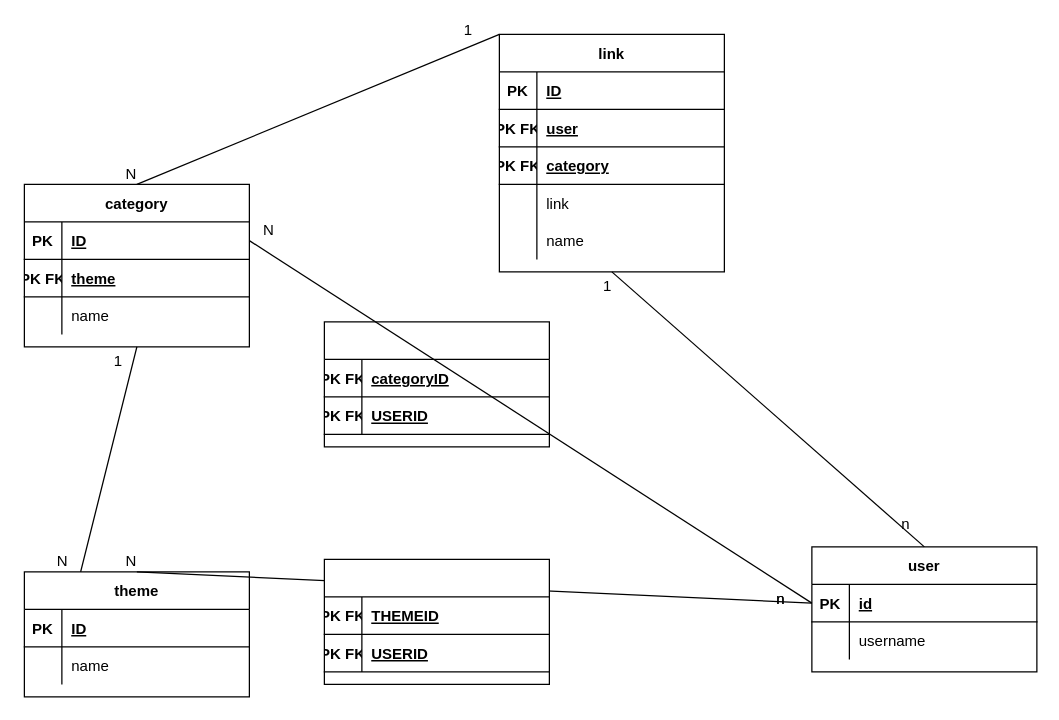
The diagram is 1059 pixels wide and 720 high, and some of its shapes have lost their labels. The box of each missing label's shape, as (x1, y1, x2, y2) in pixels:
user_category: (323, 321, 549, 447)
user_theme: (323, 558, 549, 684)
